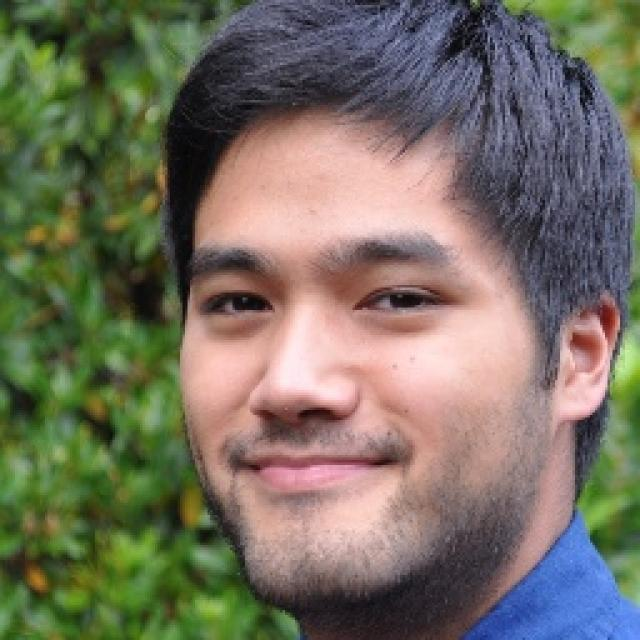earlobe: (556, 375, 600, 423)
eye: (350, 282, 446, 317), (200, 290, 281, 322)
nose: (250, 404, 360, 444)
wholeear: (556, 290, 626, 423)
